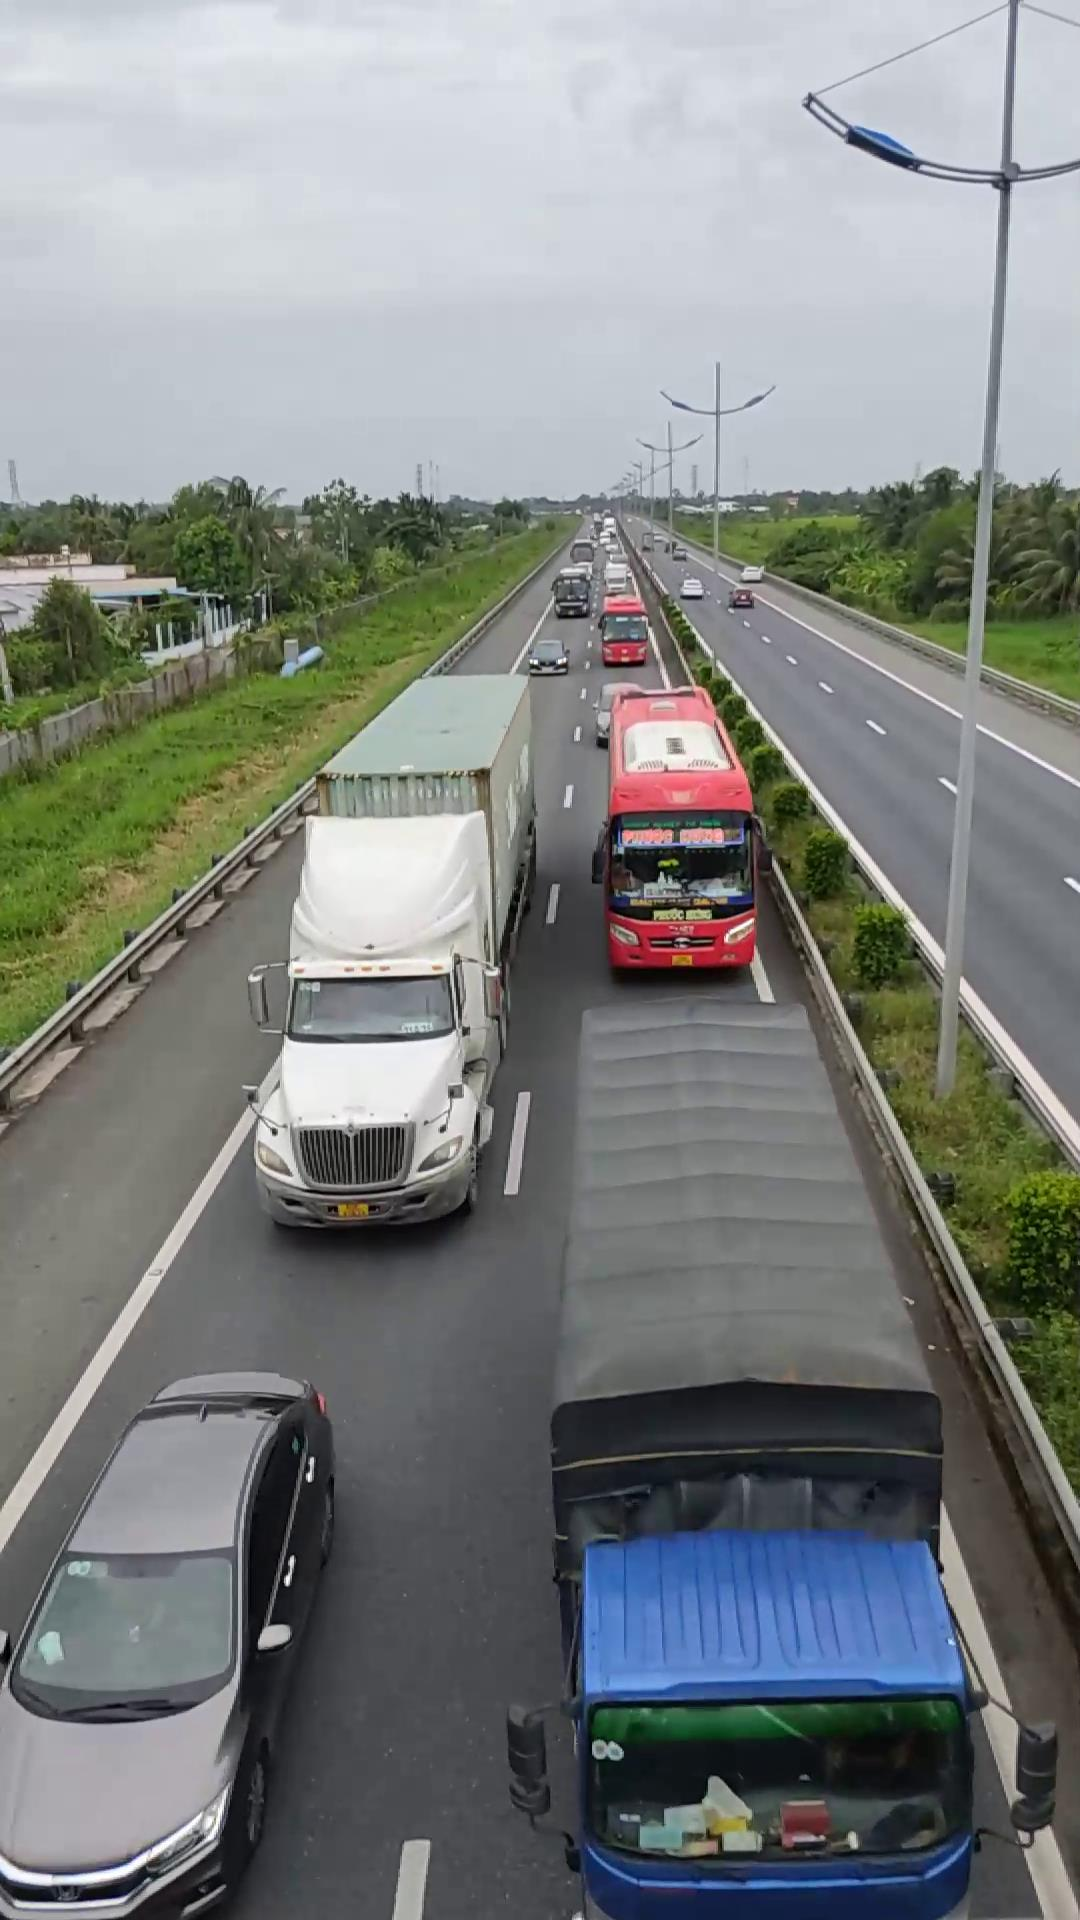bus: (593, 680, 764, 975)
car: (0, 1371, 341, 1918)
container: (248, 664, 535, 1231)
truck: (553, 988, 983, 1906)
